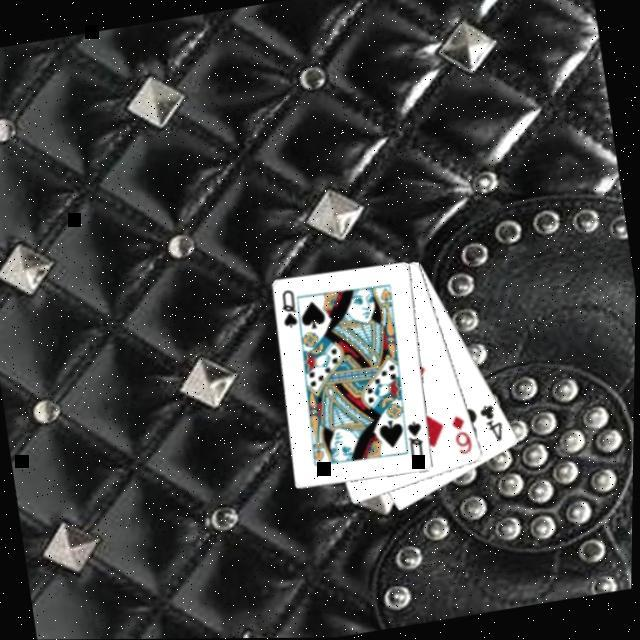4C: (478, 397, 512, 446)
6D: (449, 409, 481, 457)
QS: (405, 414, 433, 462), (278, 284, 305, 330)
